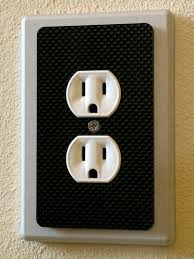outlet: (78, 143, 111, 180), (79, 79, 108, 115)
